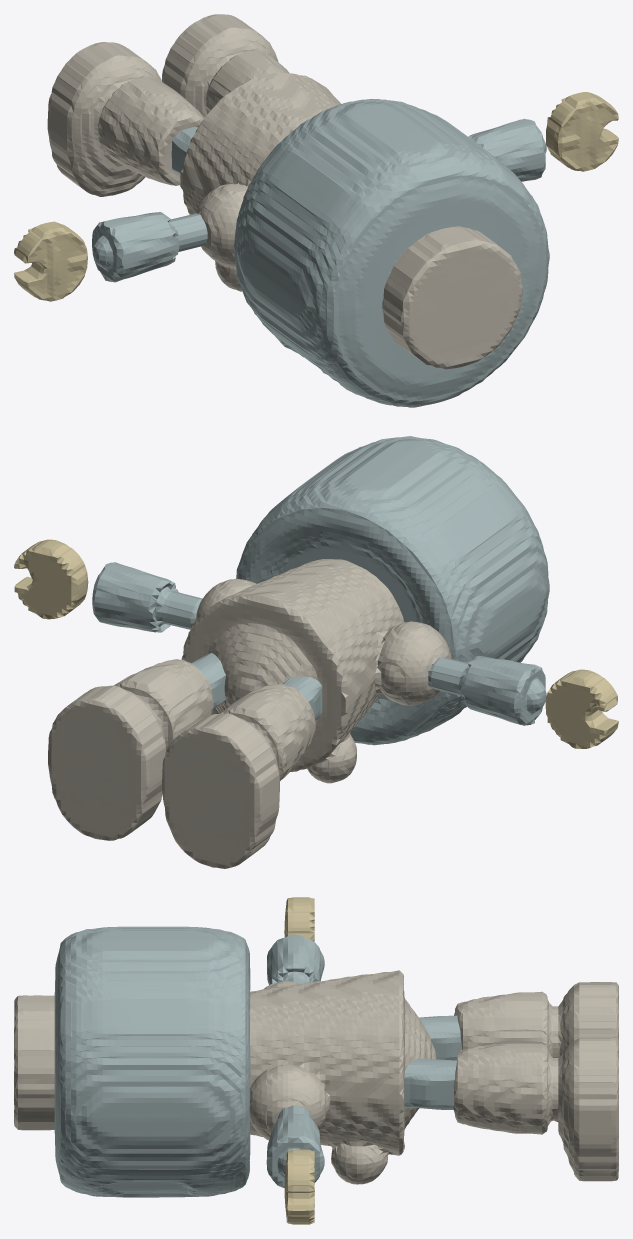
File: source.glb
3 views of the same model, one above another, from view 1: azimuth 30°, elevation 25°; view 2: azimuth 150°, elevation 25°; view 3: azimuth 270°, elevation 25° (orthographic). The views are drawn at different scales.
Parts seen in each view (by area): view 1: neural-part-001, neural-part-002, neural-part-000; view 2: neural-part-002, neural-part-001, neural-part-000; view 3: neural-part-001, neural-part-002, neural-part-000.
Boxes of the visible parts, x1,y1,x2,y2 form: neural-part-001: [92, 99, 549, 407]; neural-part-002: [47, 14, 522, 369]; neural-part-000: [14, 92, 618, 301]; neural-part-002: [48, 559, 451, 868]; neural-part-001: [92, 436, 549, 745]; neural-part-000: [14, 539, 618, 748]; neural-part-001: [54, 926, 461, 1197]; neural-part-002: [14, 970, 618, 1184]; neural-part-000: [284, 897, 314, 1224].
Bounding box in the file's own units: 0.1 × 0.0405 × 0.0907.
